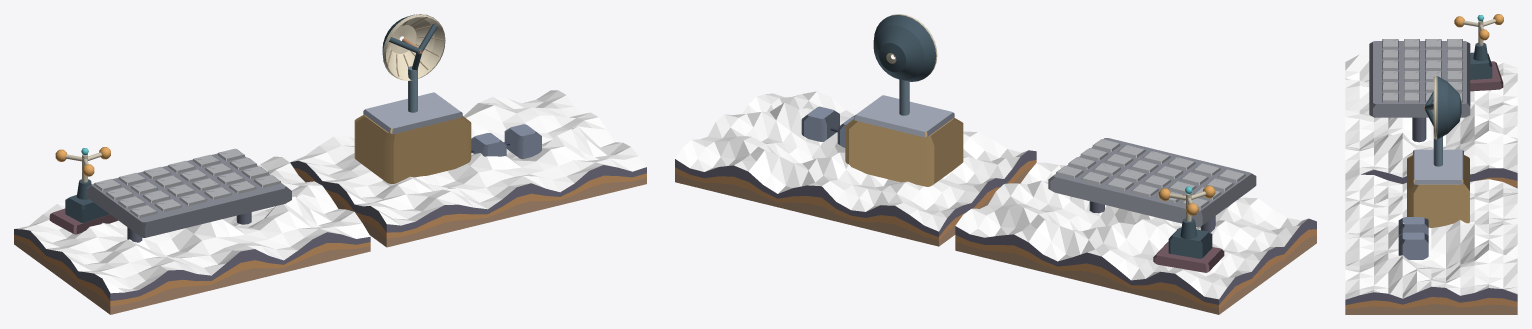
The model's file is apolo-easep.obj.
3 views of the same model, side by side, from view 1: azimuth 30°, elevation 25°; view 2: azimuth 150°, elevation 25°; view 3: azimuth 270°, elevation 25° (orthographic). The views are drawn at different scales.
Visible parts, largest first — view 1: apolo-easep; view 2: apolo-easep; view 3: apolo-easep.
Boxes of the visible parts, x1,y1,x2,y2 form: apolo-easep: (14, 14, 646, 314); apolo-easep: (675, 14, 1316, 314); apolo-easep: (1345, 14, 1517, 314).
Bounding box in the file's own units: 1.67 × 0.523 × 0.52.
